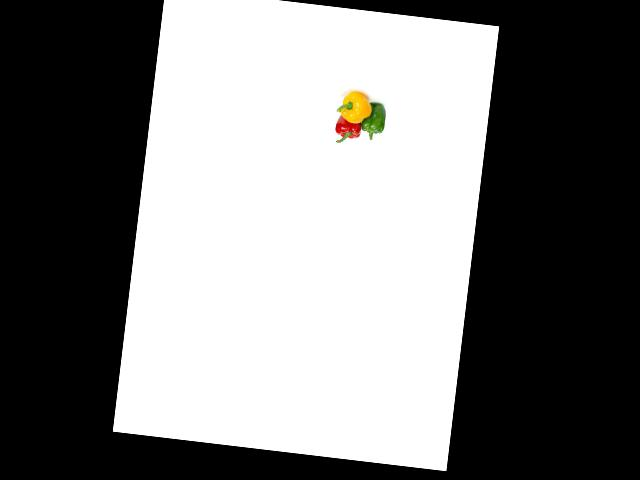bell_pepper: (329, 109, 367, 148)
